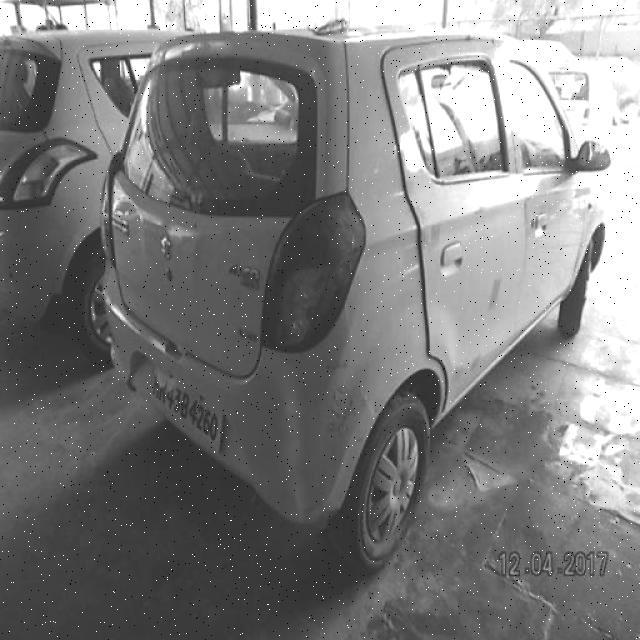car damage: (404, 159, 445, 258), (326, 381, 351, 434), (485, 278, 505, 313), (271, 267, 291, 297), (451, 359, 467, 391), (468, 354, 481, 376)
